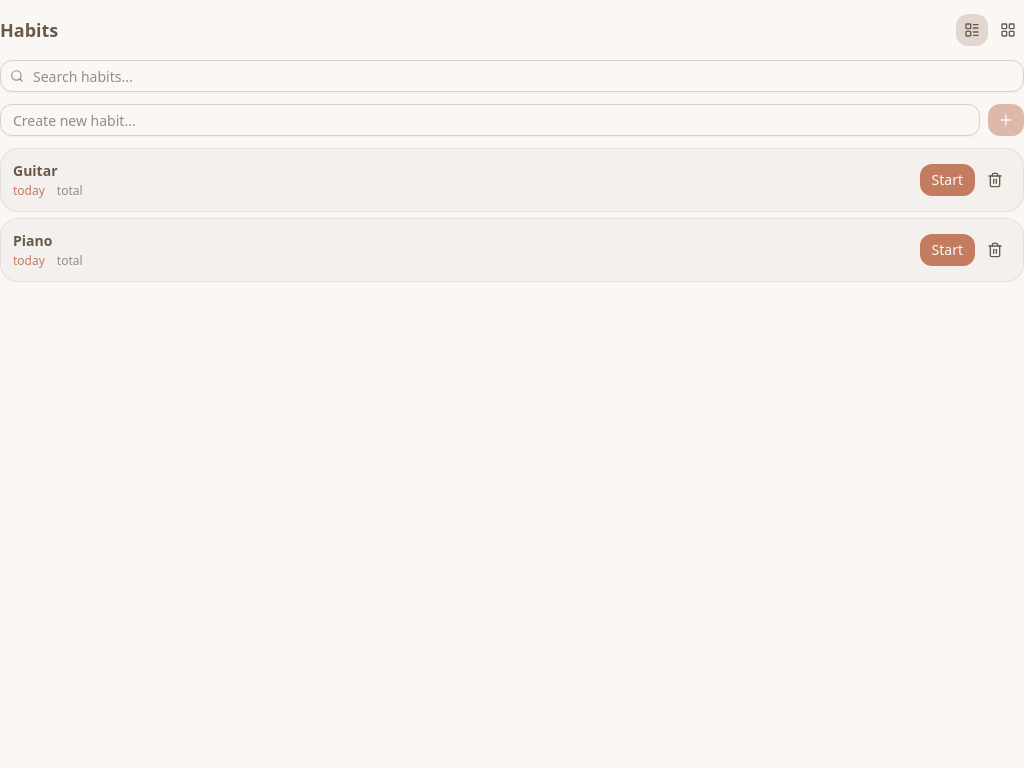
Test: Dashboard › shows switch confirmation with elapsed time when starting a different habit
Click the 2nd button "Start" at (947, 250), box [920, 234, 975, 266]
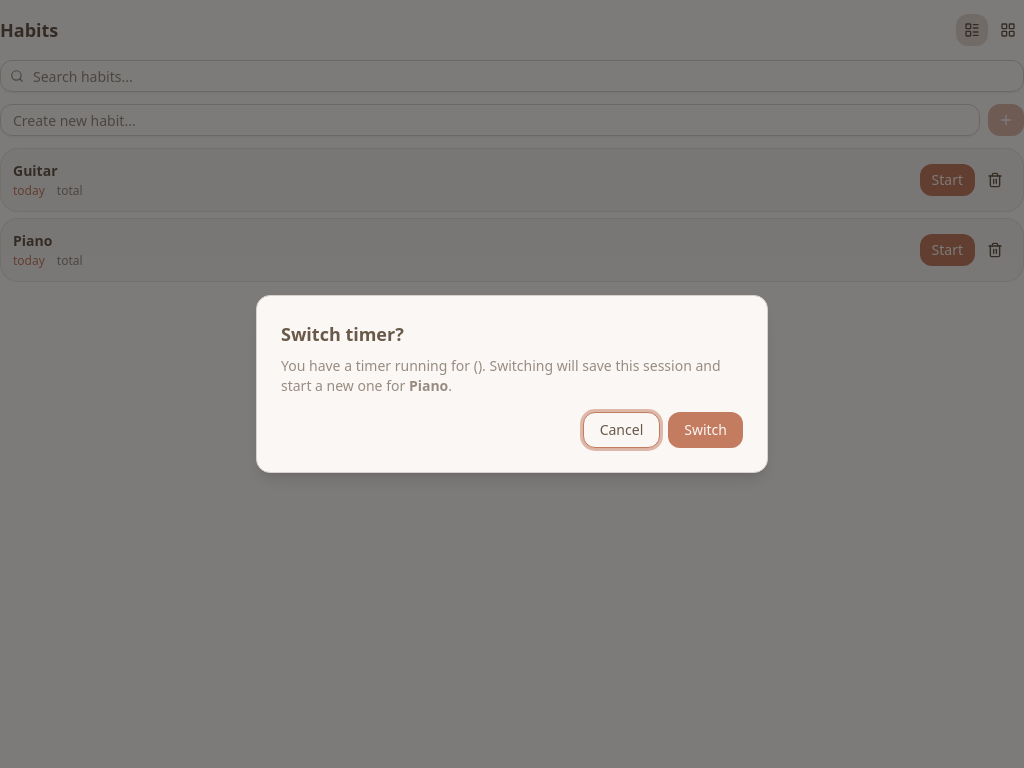
Expected: the text "Switching will save this session" is shown, [281, 356, 721, 395]
